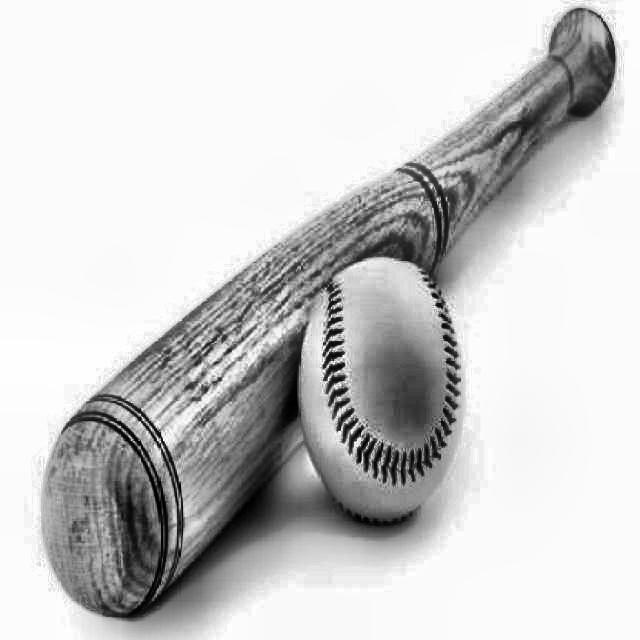tongkat pemukul: (28, 0, 637, 635)
